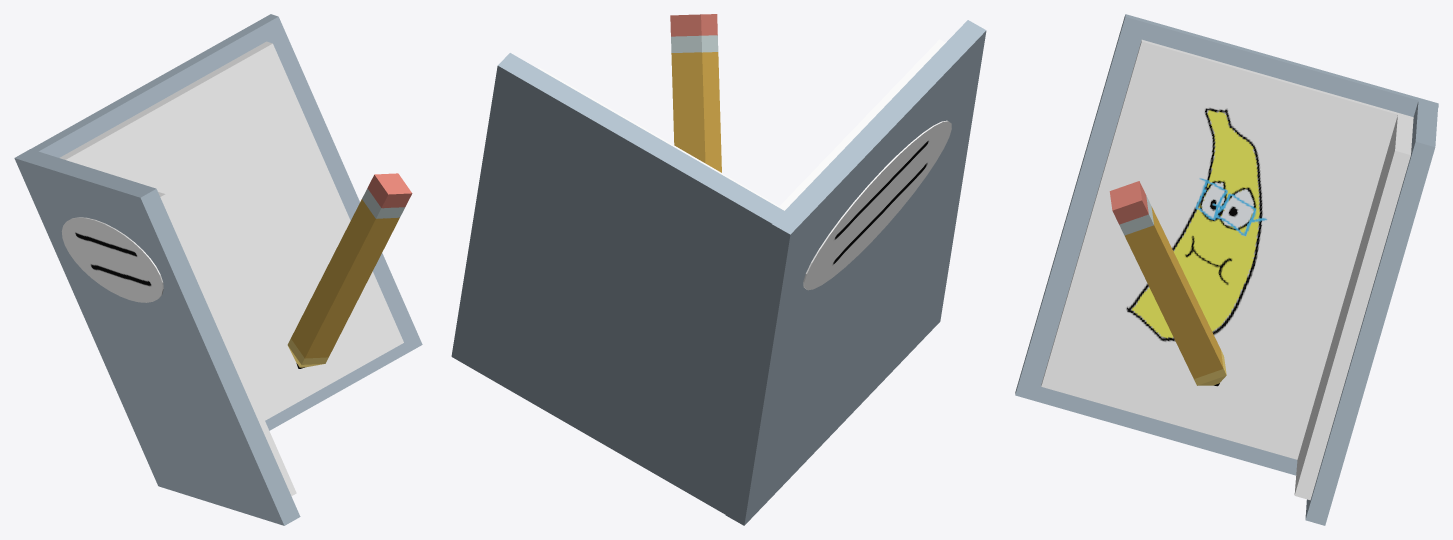
Rendered from paper.glb.
3 renders of one model, left to right at view 1: azimuth 30°, elevation 25°; view 2: azimuth 150°, elevation 25°; view 3: azimuth 270°, elevation 25°, orthographic. The views are drawn at different scales.
Visible parts, largest first — view 1: Cube.002, Cube, Cube.001, Cylinder, Cube.004, Cube.003; view 2: Cube, Cylinder, Cube.001, Cube.002, Cube.004, Cube.003; view 3: Cube.002, Cube, Cube.001, Cube.004, Cube.003.
Boxes of the visible parts, box(x1,y1,x2,y2) form: Cube.002: box(60, 41, 403, 496); Cube: box(14, 14, 422, 525); Cube.001: box(291, 199, 399, 358); Cylinder: box(61, 217, 163, 302); Cube.004: box(367, 173, 412, 208); Cube.003: box(362, 188, 404, 218); Cube: box(451, 20, 986, 525); Cylinder: box(803, 120, 951, 290); Cube.001: box(671, 52, 721, 172); Cube.002: box(538, 39, 945, 210); Cube.004: box(670, 14, 717, 36); Cube.003: box(671, 35, 718, 52); Cube.002: box(1041, 39, 1413, 500); Cube: box(1015, 14, 1438, 525); Cube.001: box(1125, 206, 1223, 378); Cube.004: box(1109, 181, 1148, 224); Cube.003: box(1119, 196, 1153, 235).
Size of the model in its own units: 2.27 by 2.35 by 2.13.
10 materials, 3 textured.
